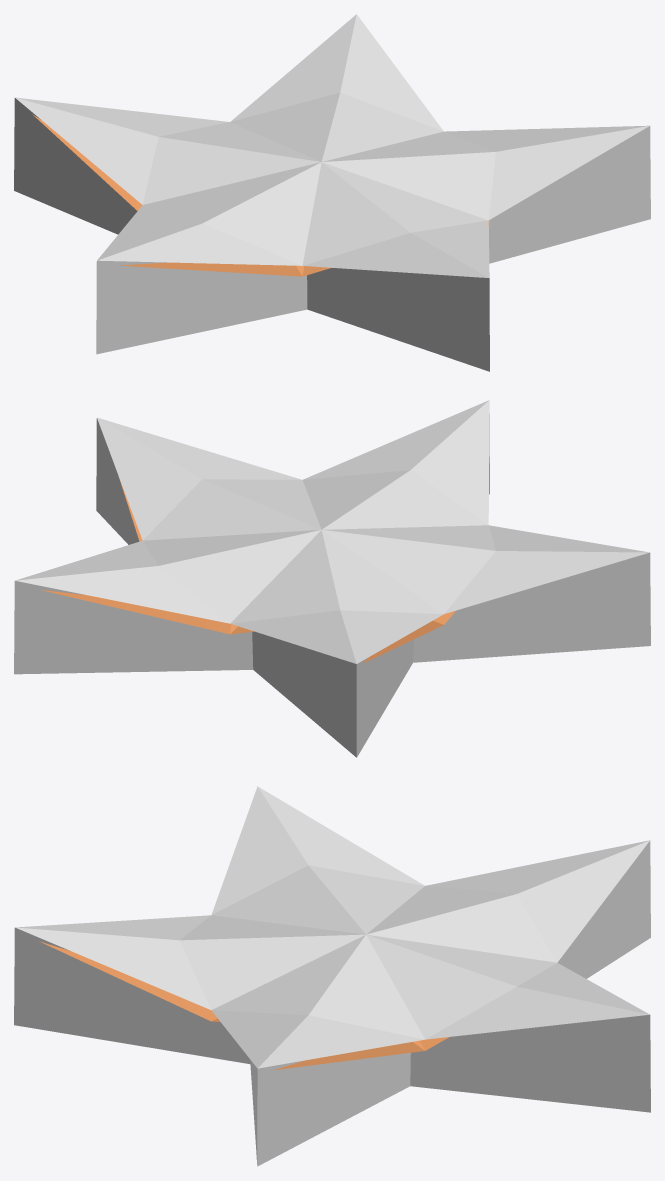
Rendered from starfish.fbx.
3 renders of one model, top to bottom at view 1: azimuth 30°, elevation 25°; view 2: azimuth 150°, elevation 25°; view 3: azimuth 270°, elevation 25°, orthographic. The views are drawn at different scales.
Visible parts, largest first — view 1: Estrella_2; view 2: Estrella_2; view 3: Estrella_2.
Boxes of the visible parts, x1,y1,x2,y2 form: Estrella_2: (14,14,650,371); Estrella_2: (14,400,650,757); Estrella_2: (14,786,650,1166).
Bounding box in the file's own units: 119 × 20.1 × 113.
